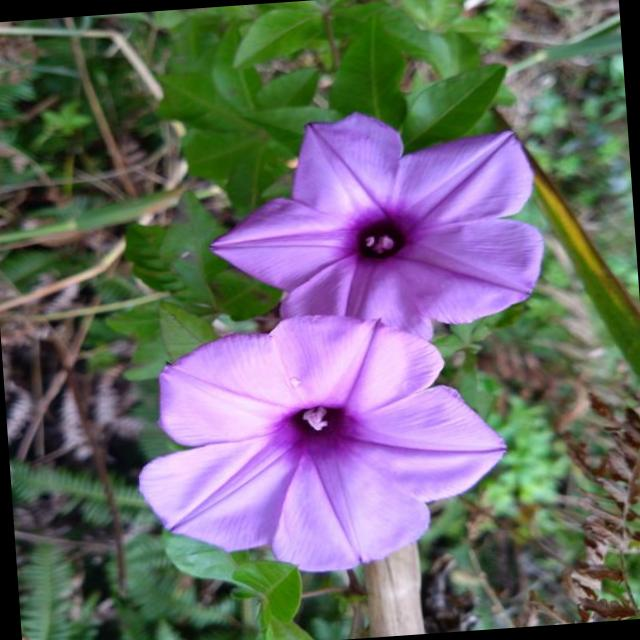ipomoea: (122, 300, 518, 588), (197, 97, 553, 354)
